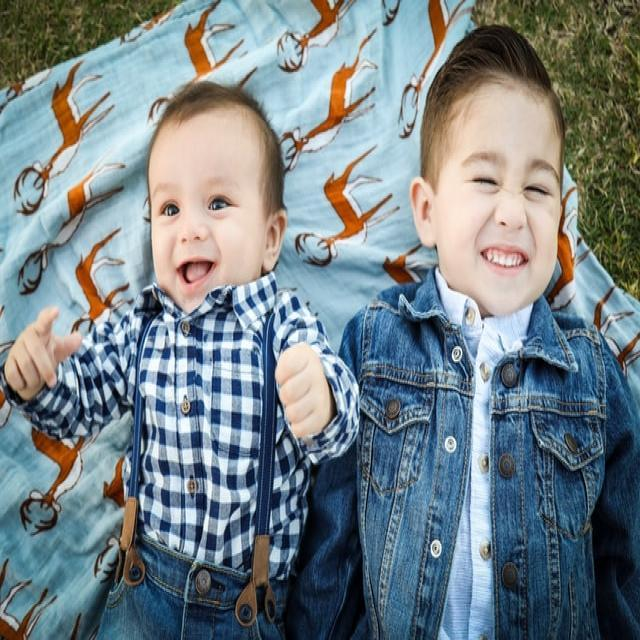non-dog: (284, 22, 640, 640), (1, 80, 358, 640)
